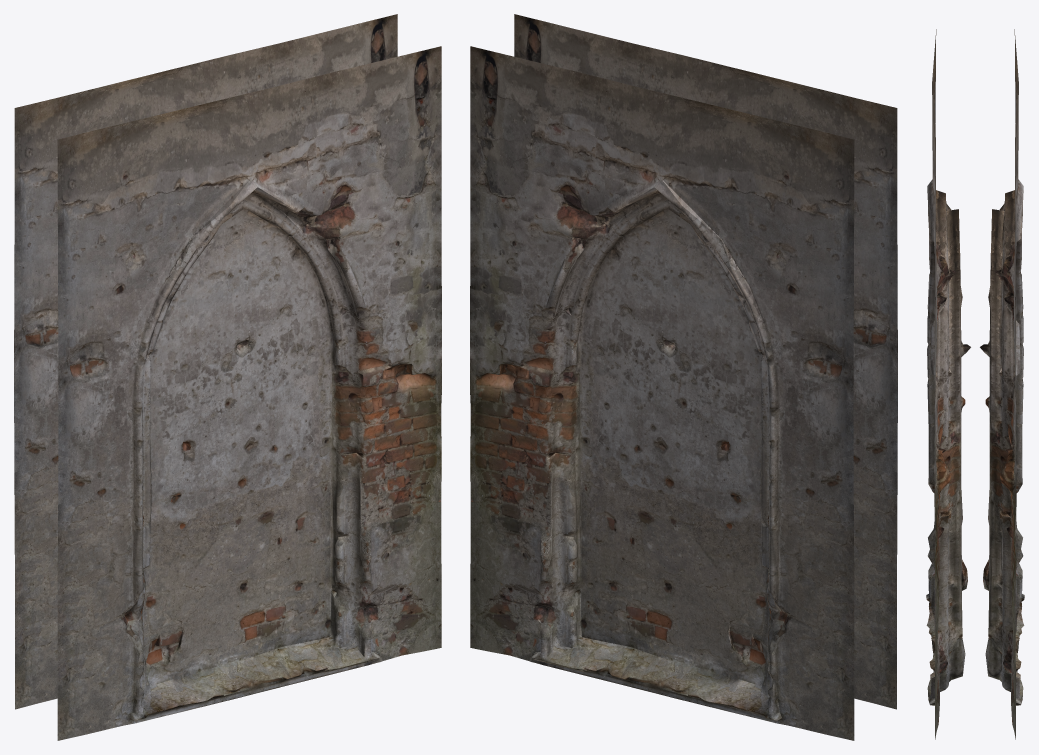
File: SM_ChapelWall_02_04.fbx
3 renders of one model, left to right at view 1: azimuth 30°, elevation 25°; view 2: azimuth 150°, elevation 25°; view 3: azimuth 270°, elevation 25°, orthographic. The views are drawn at different scales.
Parts seen in each view (by area): view 1: sm_ChapelWall_02_04_LOD0; view 2: sm_ChapelWall_02_04_LOD0; view 3: sm_ChapelWall_02_04_LOD0.
Part boxes in pixels (x1,y1,x2,y2): sm_ChapelWall_02_04_LOD0: (14,14,441,740); sm_ChapelWall_02_04_LOD0: (470,14,897,740); sm_ChapelWall_02_04_LOD0: (926,29,1024,739).
Size of the model in its own units: 60.36 by 250 by 375.
